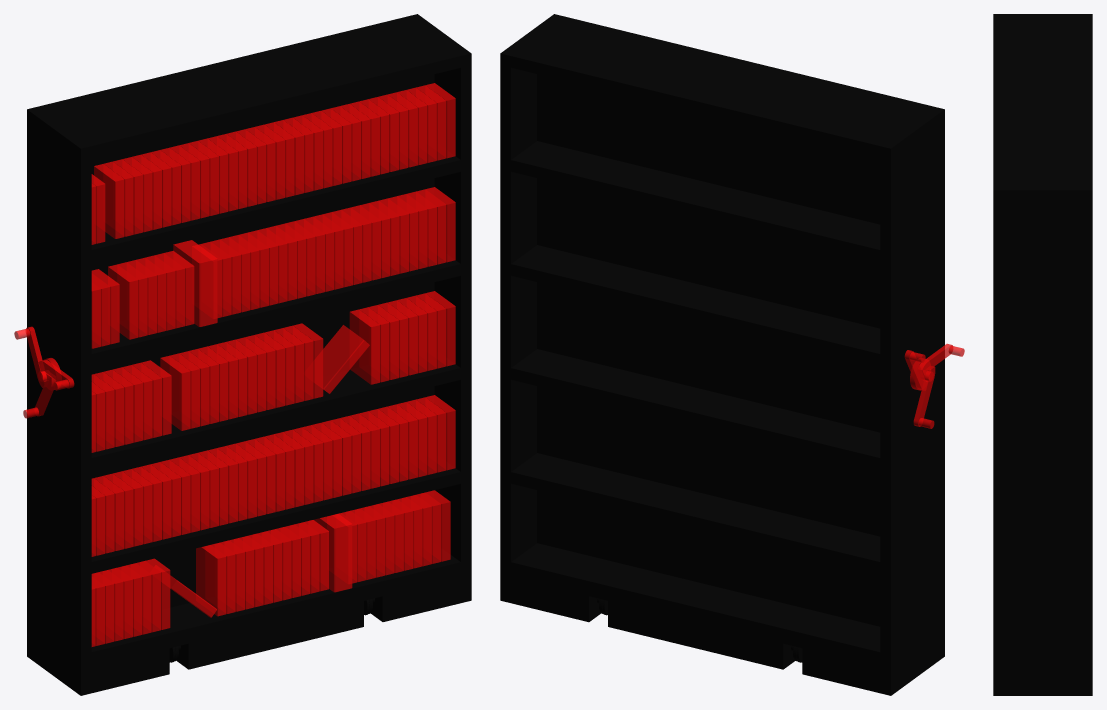
The model's file is Bookcase.glb.
3 views of the same model, side by side, from view 1: azimuth 30°, elevation 25°; view 2: azimuth 150°, elevation 25°; view 3: azimuth 270°, elevation 25° (orthographic). The views are drawn at different scales.
Bounding box in the file's own units: 2.21 × 2.8 × 0.5.
